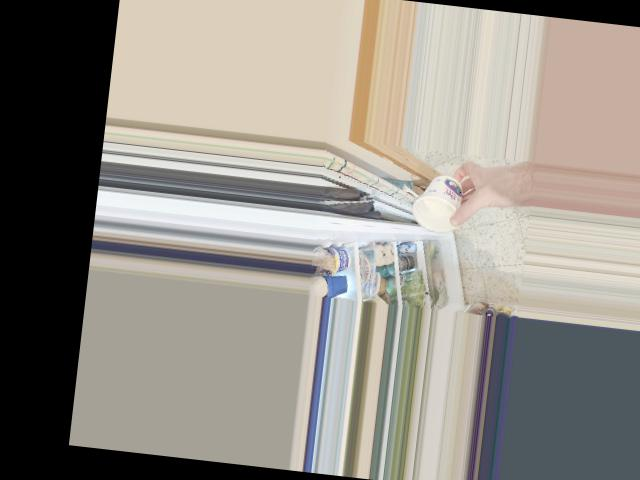cotage: (414, 172, 467, 229)
